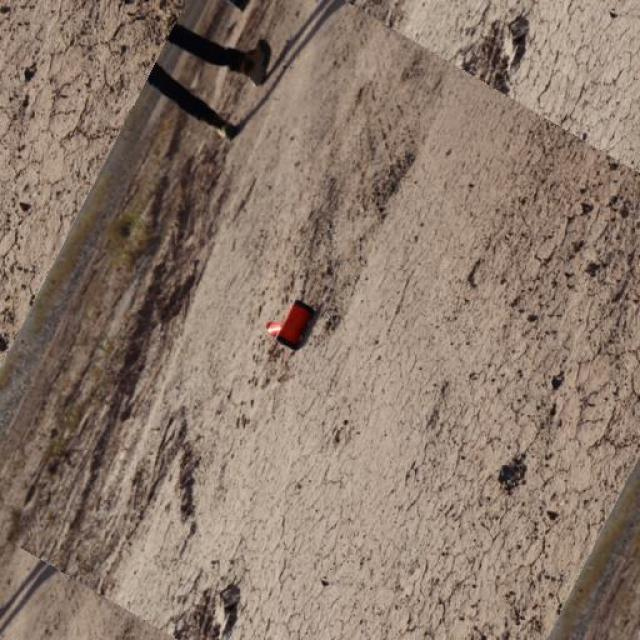mallet: (264, 297, 314, 348)
